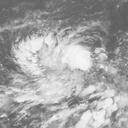cyclone: (29, 30, 94, 94)
